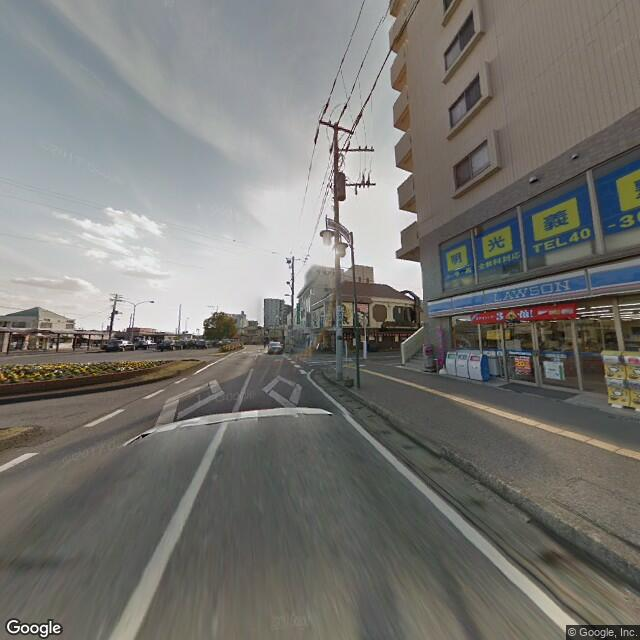lawson: (427, 255, 638, 322)
